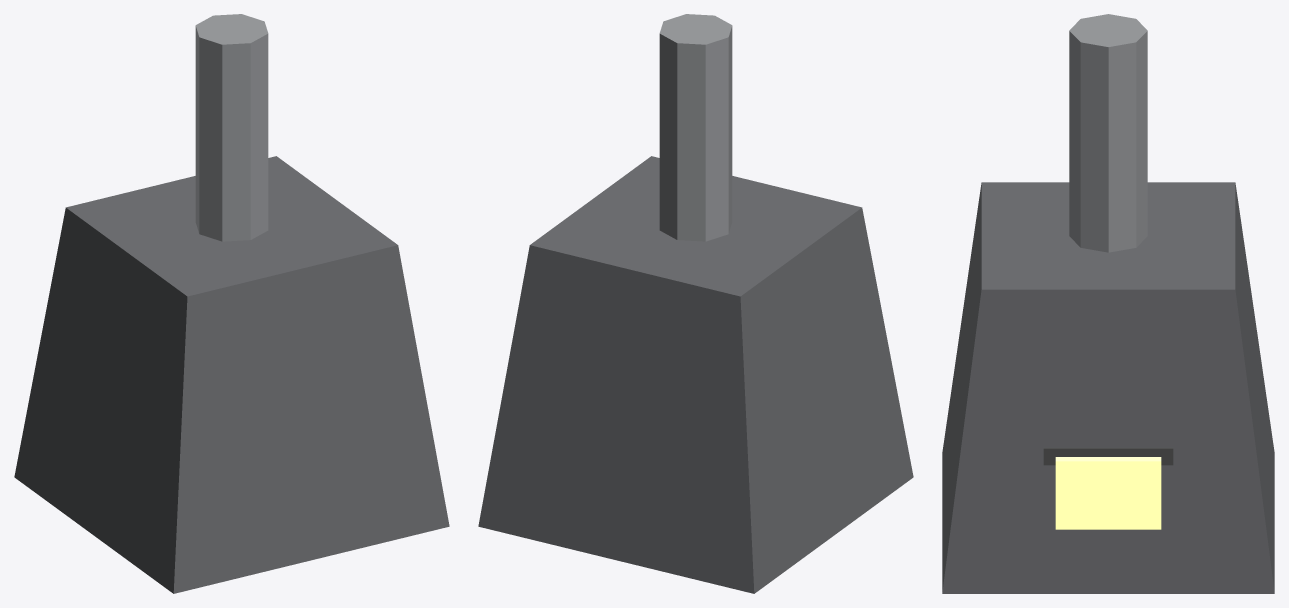
File: deploy_efurnace.glb
3 renders of one model, left to right at view 1: azimuth 30°, elevation 25°; view 2: azimuth 150°, elevation 25°; view 3: azimuth 270°, elevation 25°, orthographic. The views are drawn at different scales.
Parts seen in each view (by area): view 1: deploy_efurnace; view 2: deploy_efurnace; view 3: deploy_efurnace.
Boxes of the visible parts, x1,y1,x2,y2 form: deploy_efurnace: (14,14,449,593); deploy_efurnace: (478,14,913,593); deploy_efurnace: (942,14,1274,593).
Bounding box in the file's own units: 1.1 × 1.8 × 1.1.
